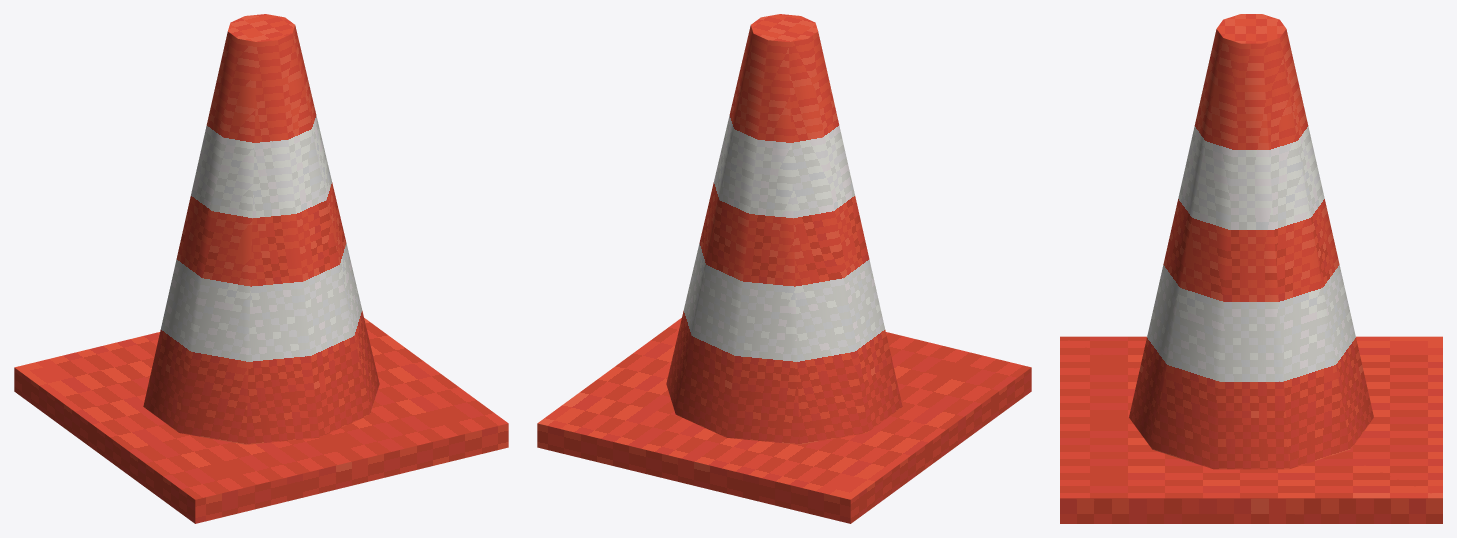
The model's file is Traffic_Cone_2.obj.
3 renders of one model, left to right at view 1: azimuth 30°, elevation 25°; view 2: azimuth 150°, elevation 25°; view 3: azimuth 270°, elevation 25°, orthographic. The views are drawn at different scales.
Visible parts, largest first — view 1: Traffic_Cone_2; view 2: Traffic_Cone_2; view 3: Traffic_Cone_2.
Boxes of the visible parts, x1=… form: Traffic_Cone_2: x1=14, y1=14, x2=508, y2=523; Traffic_Cone_2: x1=537, y1=14, x2=1031, y2=523; Traffic_Cone_2: x1=1060, y1=14, x2=1442, y2=523.
Size of the model in its own units: 0.625 by 0.746 by 0.625.
